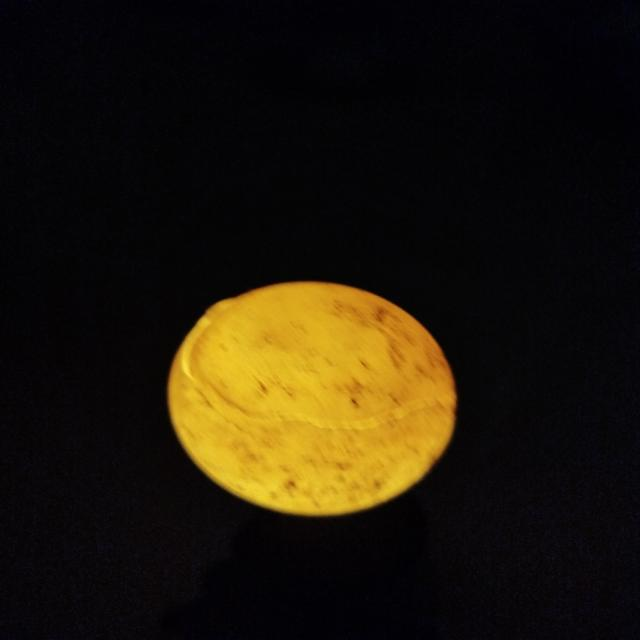Rachadura: (175, 297, 456, 435)
